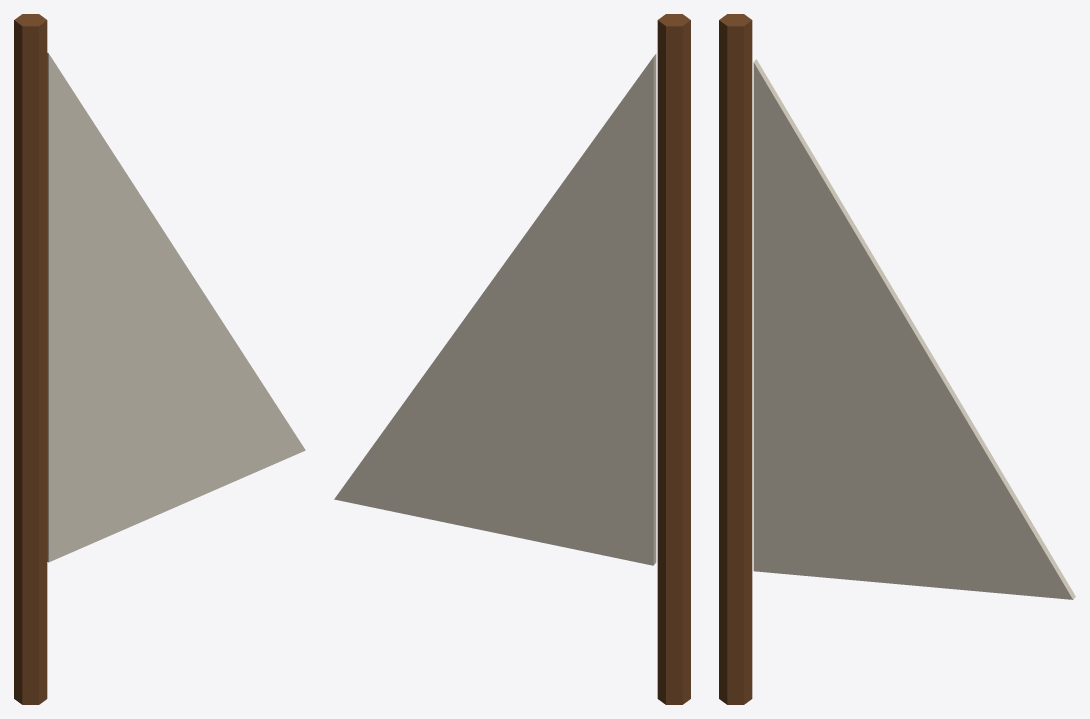
File: voile.glb
The picture shows the model from 3 angles, left to right: view 1: azimuth 30°, elevation 25°; view 2: azimuth 150°, elevation 25°; view 3: azimuth 330°, elevation 25°; orthographic projection.
Parts seen in each view (by area): view 1: toile, Cylinder; view 2: toile, Cylinder; view 3: toile, Cylinder.
Part boxes in pixels (x1,y1,x2,y2): toile: (47, 53, 305, 562); Cylinder: (14, 14, 47, 704); toile: (334, 54, 656, 565); Cylinder: (657, 14, 690, 704); toile: (753, 59, 1075, 599); Cylinder: (719, 14, 752, 704).
Bounding box in the file's own units: 0.8846 × 1.8 × 0.2097.
